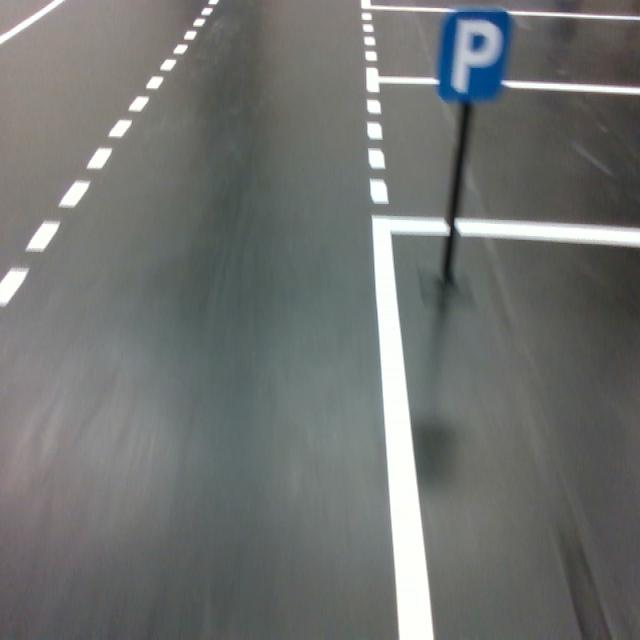parking-sign: (438, 11, 511, 101)
